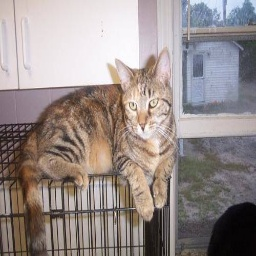cat: (21, 51, 178, 249)
